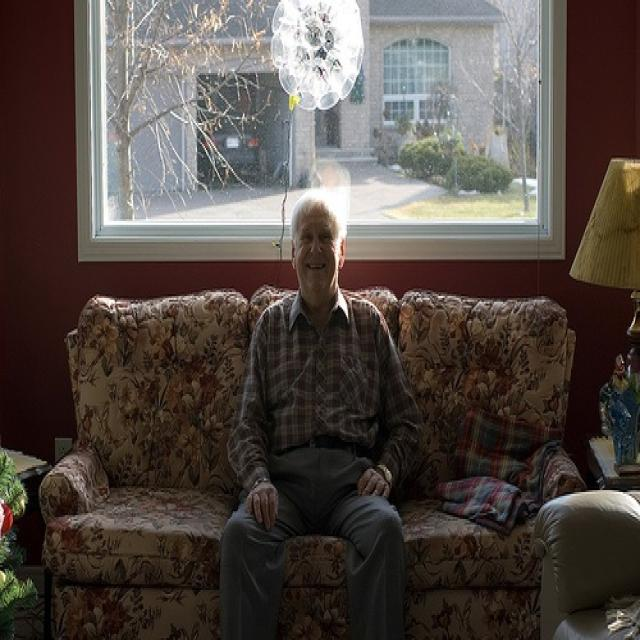car: (201, 102, 265, 175)
sofa: (41, 285, 582, 638)
